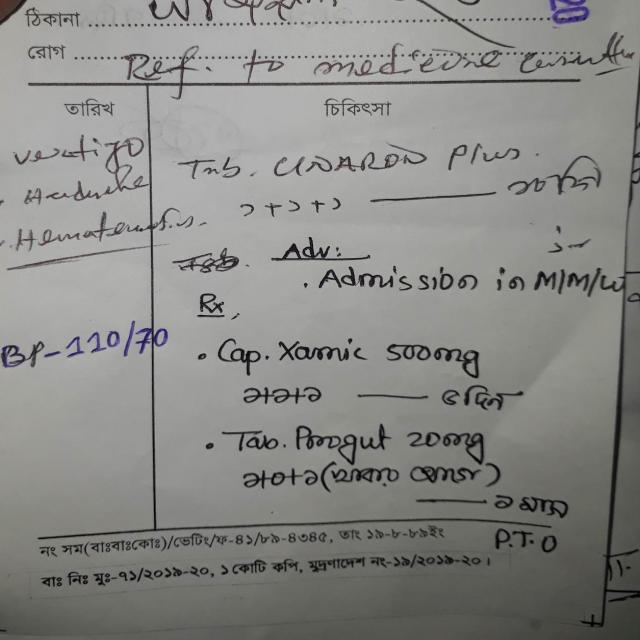Cinaron Plus: (271, 142, 525, 176)
Progut: (291, 422, 408, 460)
Xamic: (257, 337, 376, 370)
